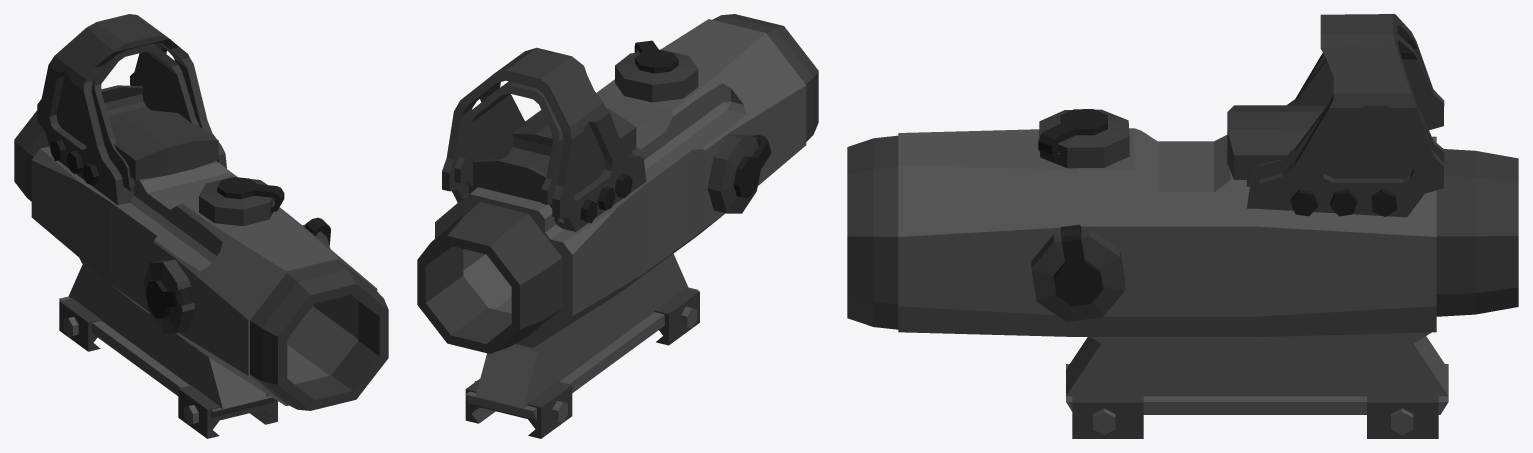
File: acog.glb
3 renders of one model, left to right at view 1: azimuth 30°, elevation 25°; view 2: azimuth 150°, elevation 25°; view 3: azimuth 270°, elevation 25°, orthographic. The views are drawn at different scales.
Parts seen in each view (by area): view 1: Optic_07; view 2: Optic_07; view 3: Optic_07.
Part boxes in pixels (box(x1,y1,x2,y2)): Optic_07: box(14, 14, 388, 438); Optic_07: box(417, 14, 818, 438); Optic_07: box(847, 14, 1518, 438).
Size of the model in its own units: 0.0622 by 0.1119 by 0.1732.
Materials: 1 (1 with a texture image).
